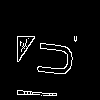U: (28, 38, 74, 80)
